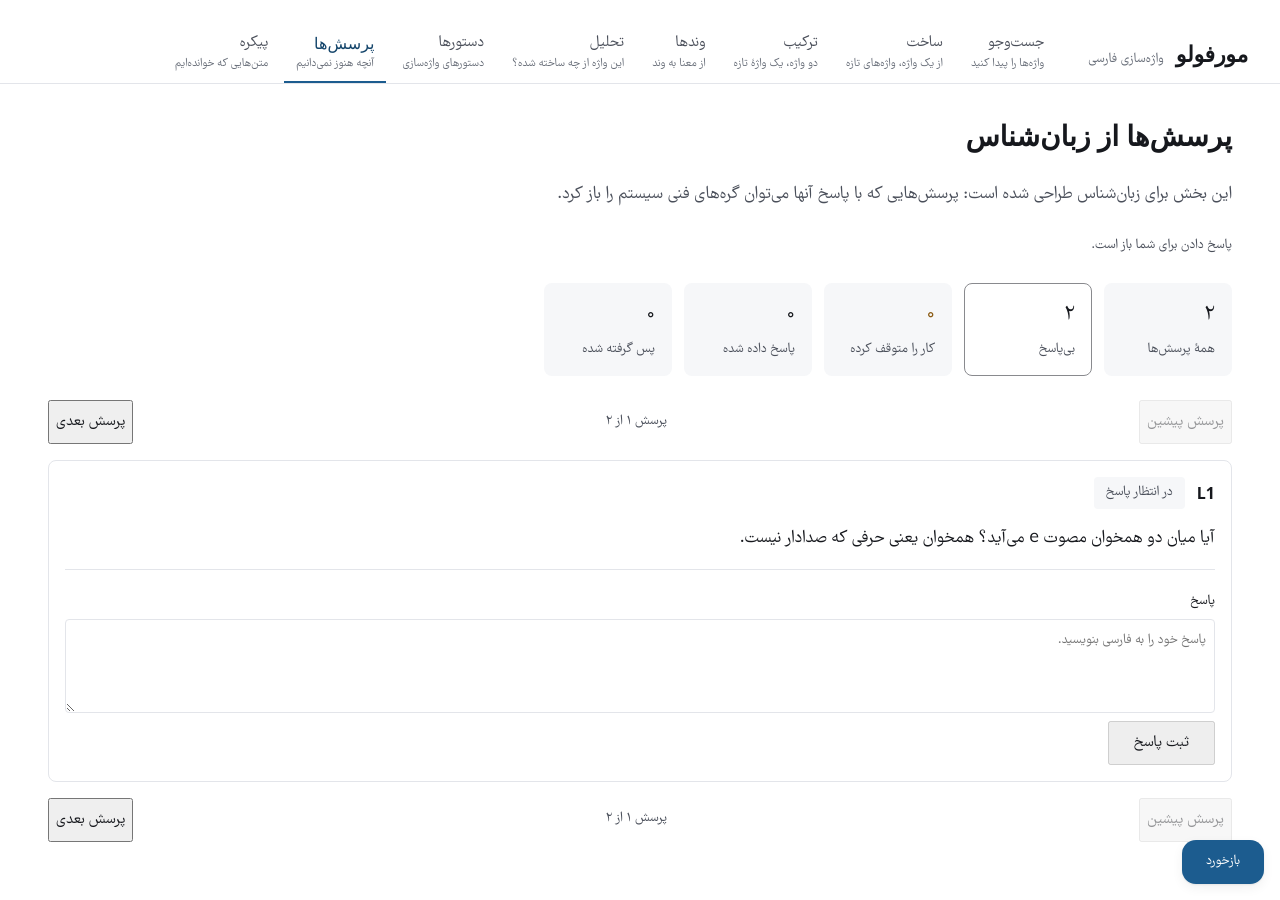
the questions screen › walks forwards and back through them
Expected: the text "L1" is shown, [1197, 479, 1215, 507]
Step 1. Click the 1st button "پرسش بعدی" → {"x": 91, "y": 422}, box [48, 400, 133, 444]
(page scrolled)
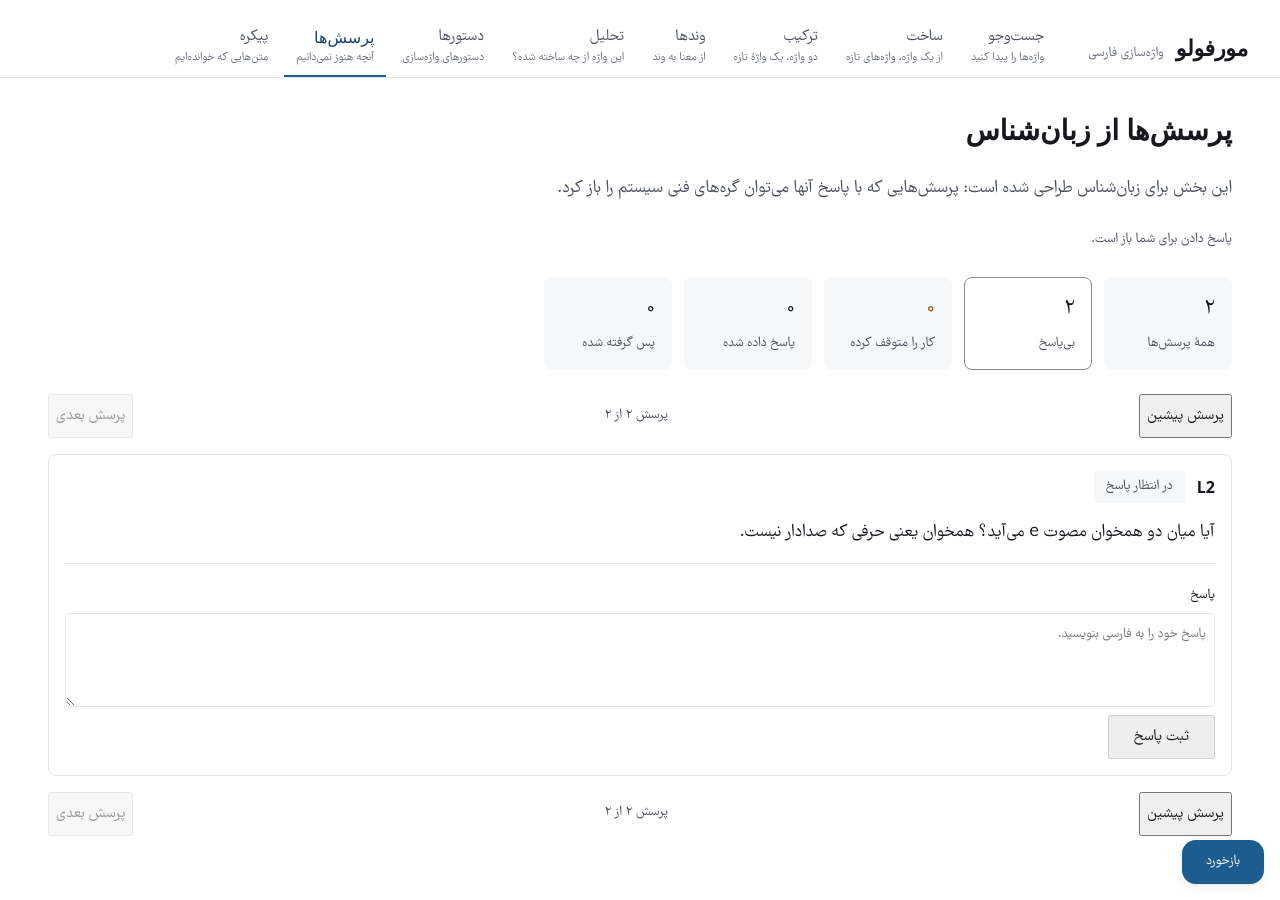
Expected: the text "L2" is shown, [1197, 473, 1215, 501]
Step 2. Click the 1st button "پرسش پیشین" → {"x": 1186, "y": 416}, box [1139, 394, 1232, 438]
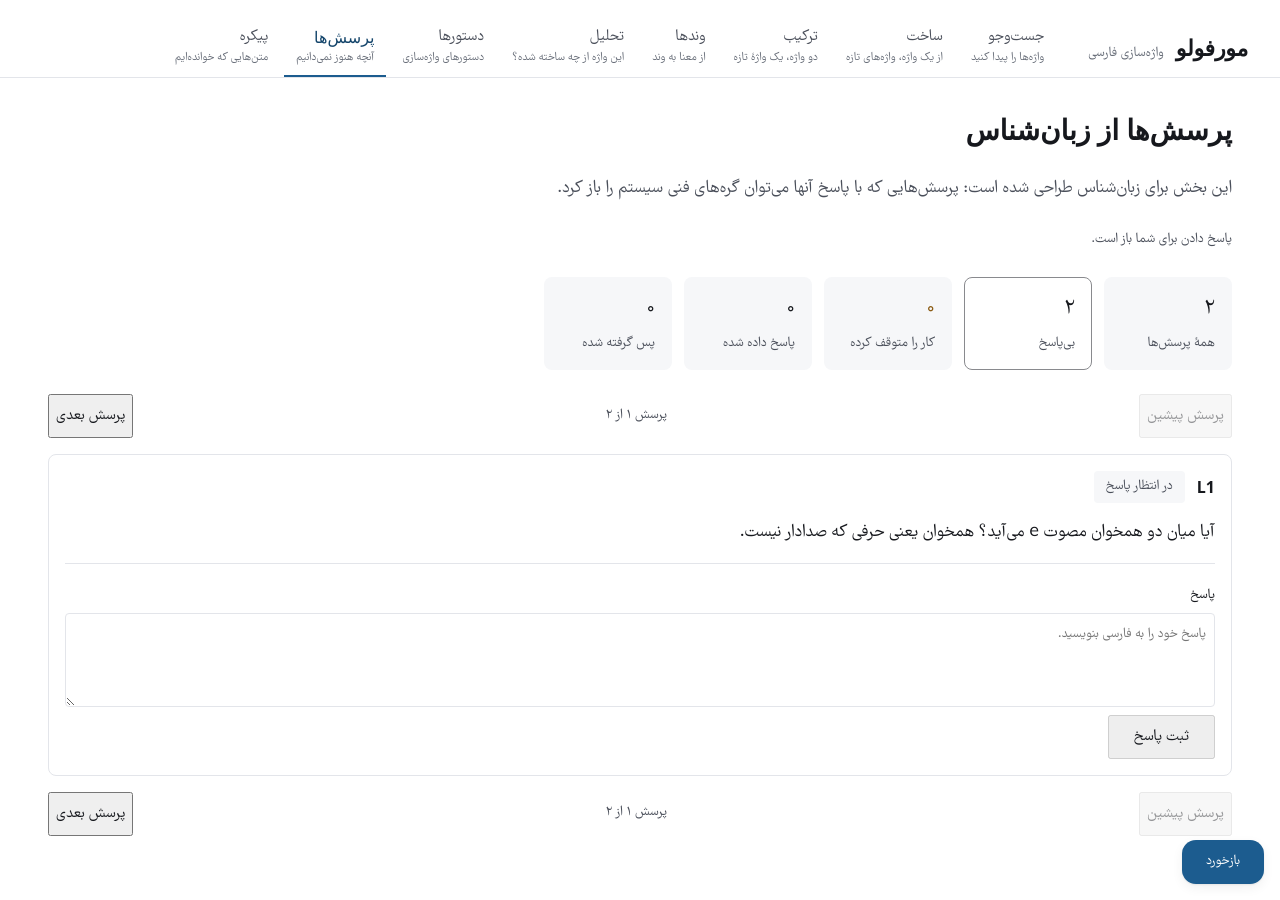
Expected: the text "L1" is shown, [1197, 473, 1215, 501]
